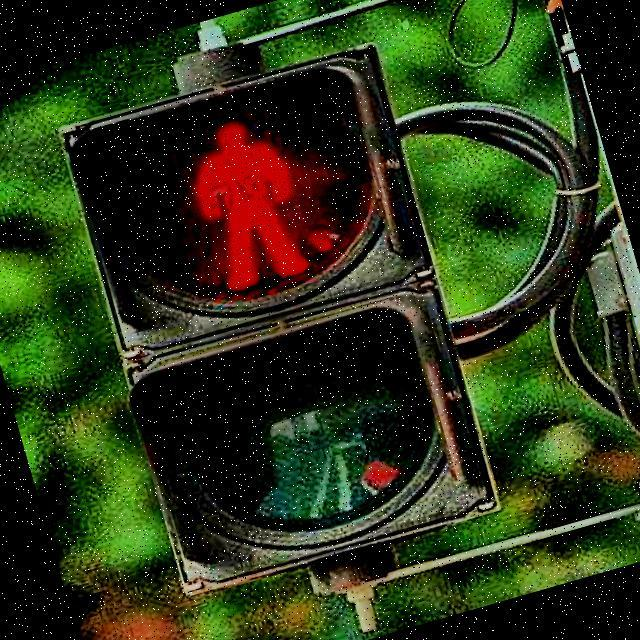red_light: (164, 104, 320, 302)
